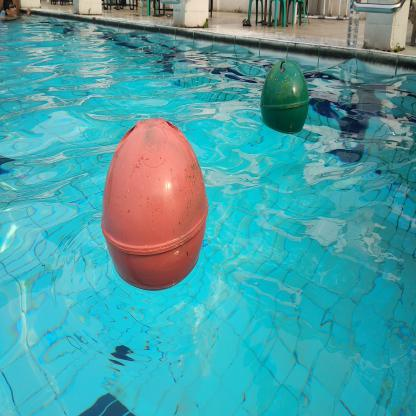green_buoy: (254, 48, 317, 150)
red_buoy: (92, 105, 219, 309)
